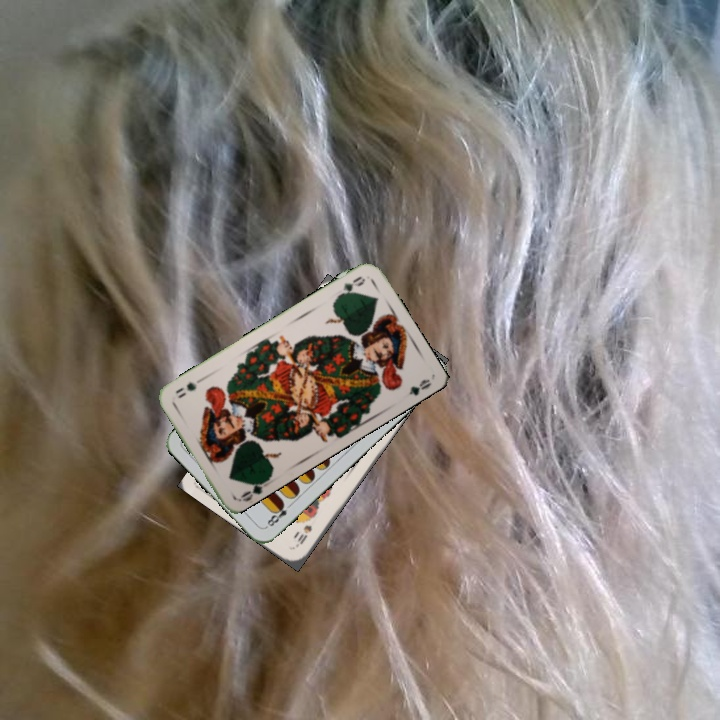E8: (262, 498, 295, 530)
GO: (236, 476, 273, 504), (333, 272, 368, 301)
S10: (291, 521, 315, 550)
